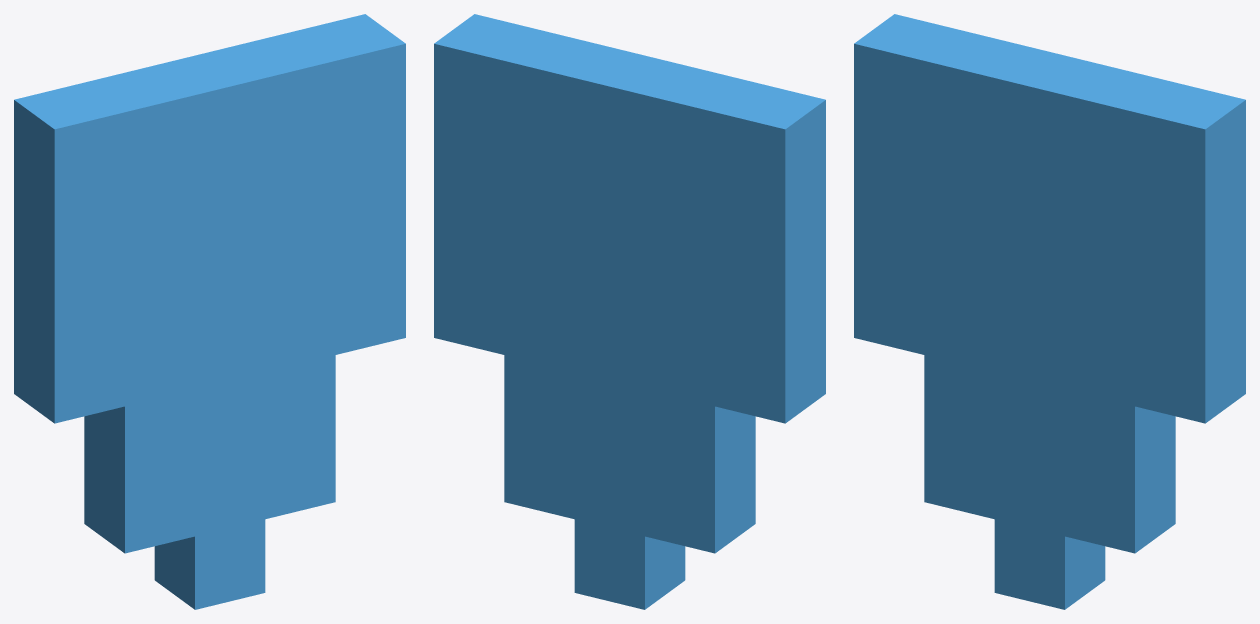
The model's file is Shield-Small-Blue.vox.obj.
3 renders of one model, left to right at view 1: azimuth 30°, elevation 25°; view 2: azimuth 150°, elevation 25°; view 3: azimuth 330°, elevation 25°, orthographic.
Bounding box in the file's own units: 0.5 × 0.7 × 0.1.
1 material, 1 textured.
